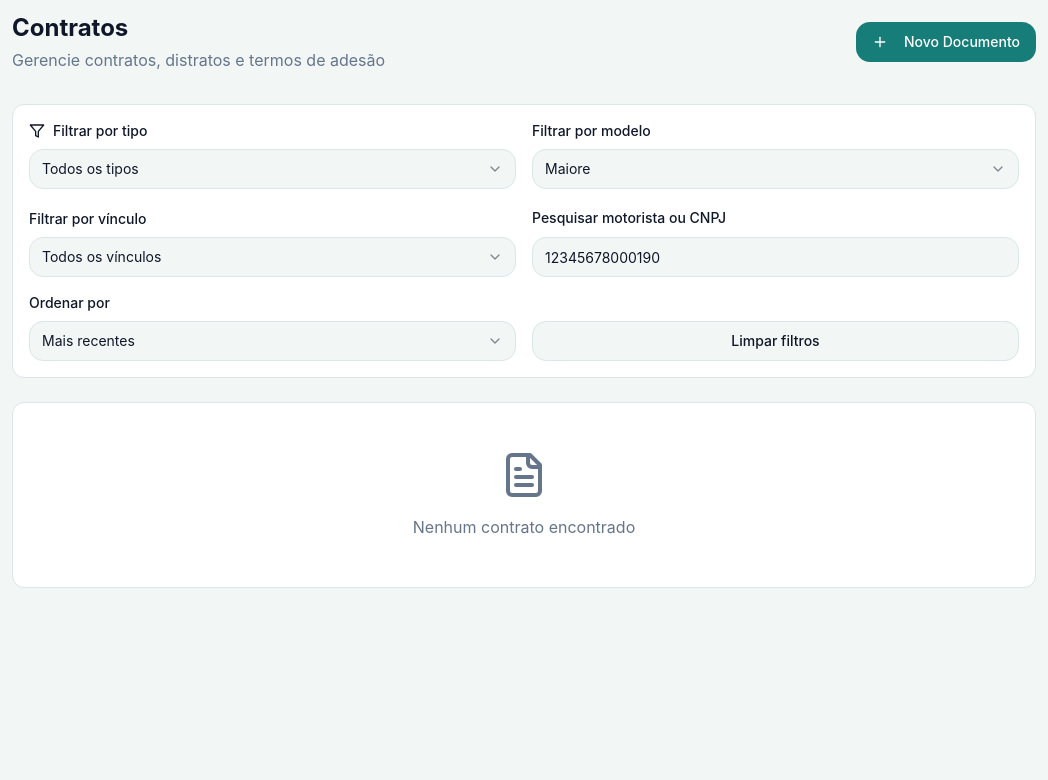
pesquisa nome sem acentos e CNPJ sem pontuação, combinando os filtros
Earlier steps of the test are not shown.
Check: the text "Nenhum contrato encontrado" is shown, box [413,517,635,537]
Click the button "Limpar filtros" at (776, 341), box [532,321,1019,361]
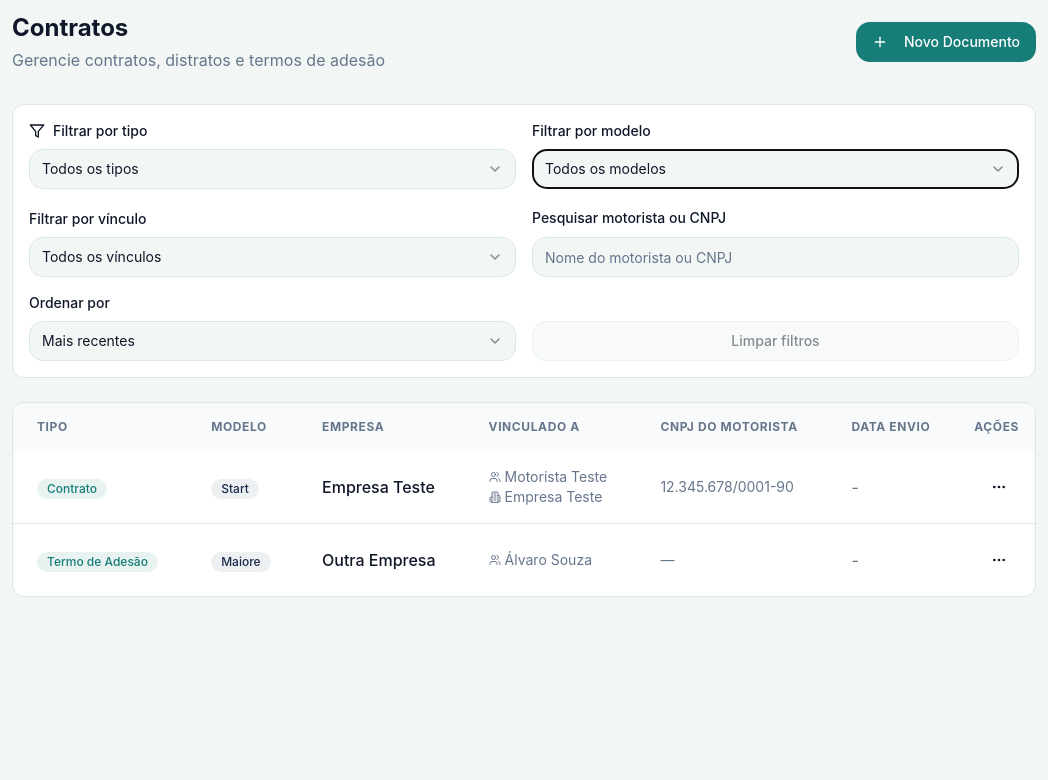
Check: the search field labelled "Pesquisar motorista ou CNPJ" is empty, box [532,237,1019,277]
Check: the text "Motorista Teste" is shown, box [489,467,612,487]
Check: the text "Álvaro Souza" is shown, box [489,551,592,568]
